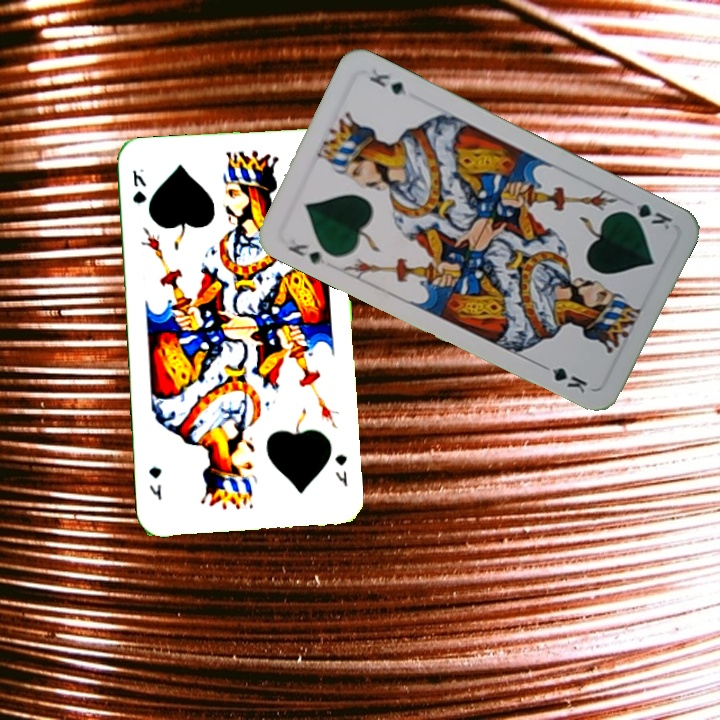GK: (618, 198, 675, 235), (283, 240, 331, 267), (128, 166, 149, 207), (331, 450, 350, 489)
